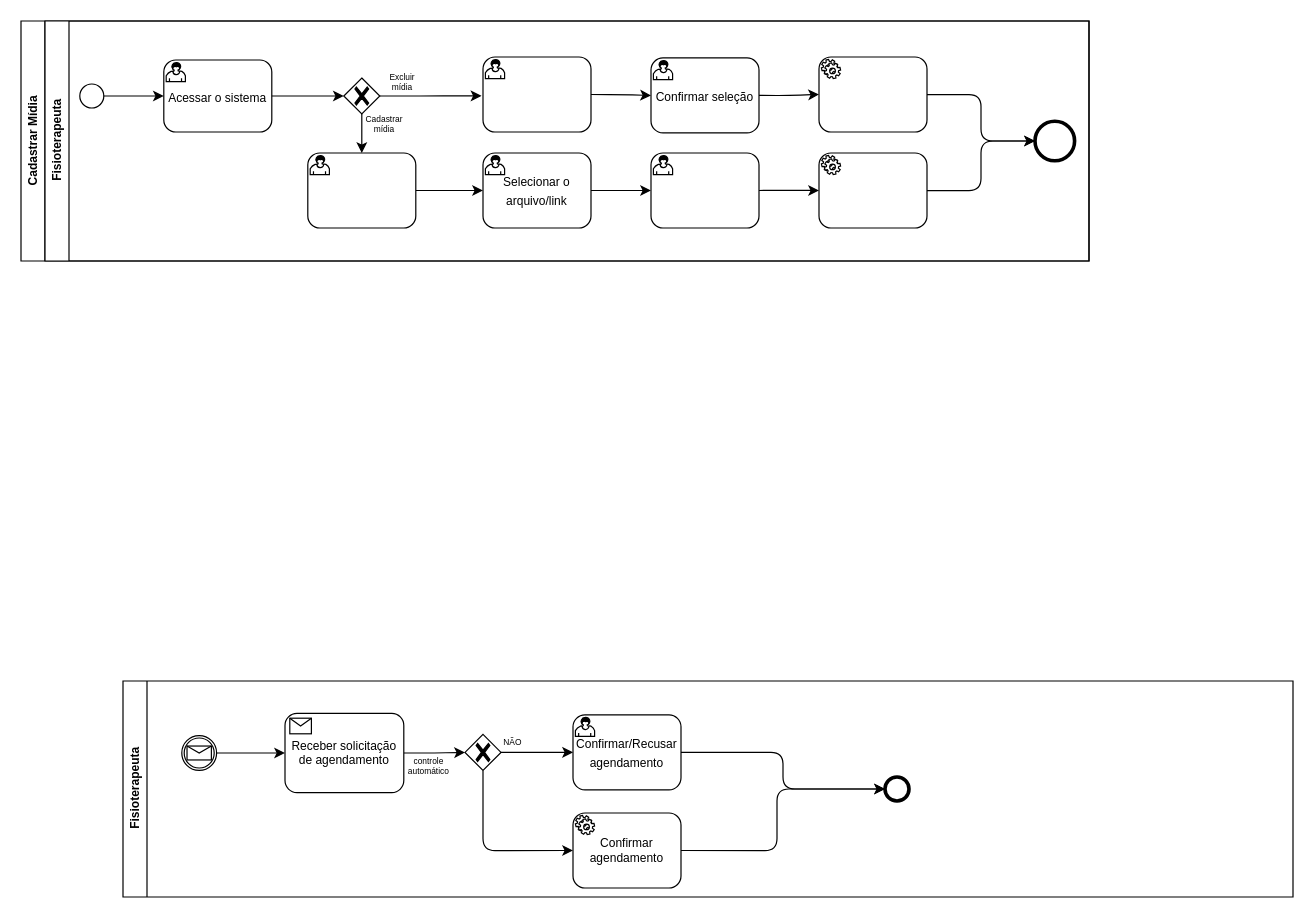
Image size: 1314x918. Some labels were removed from this diagram. Each missing label, with the centre of its shape:
"Adicionar título e descrição" goes at pixel 704 190.
"Deletar" goes at pixel 872 94.
"Salvar" goes at pixel 872 190.
"Selecionar a(as) mídia(as)" goes at pixel 536 94.
"Selecionar o tipo de mídia" goes at pixel 361 190.
